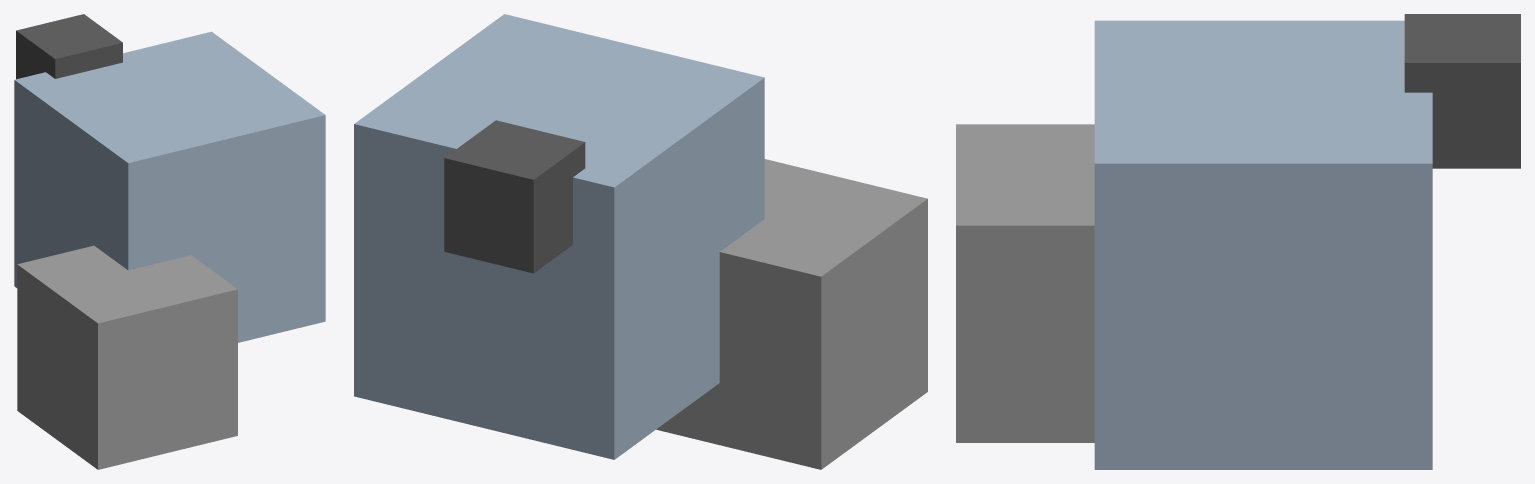
Rendered from test_material_import.fbx.
3 renders of one model, left to right at view 1: azimuth 30°, elevation 25°; view 2: azimuth 150°, elevation 25°; view 3: azimuth 270°, elevation 25°, orthographic. The views are drawn at different scales.
Parts seen in each view (by area): view 1: Cube; view 2: Cube; view 3: Cube.
Part boxes in pixels (left/top/right/bottom): Cube: left=14, top=14, right=325, bottom=469; Cube: left=354, top=14, right=927, bottom=469; Cube: left=956, top=14, right=1520, bottom=469.
Bounding box in the file's own units: 278 × 265 × 334.
